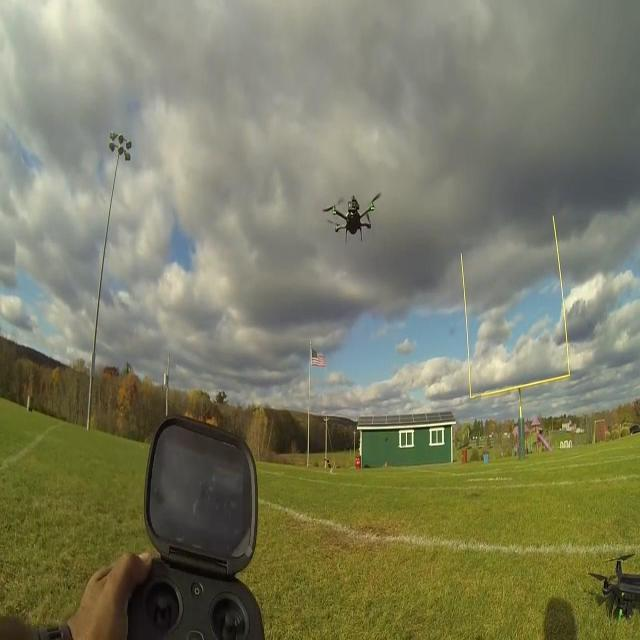drone: (324, 192, 381, 245)
